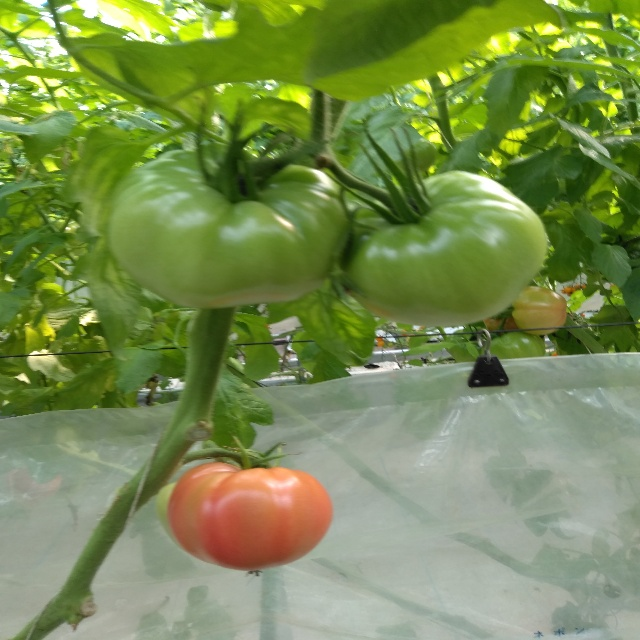b_green: (109, 141, 360, 309), (336, 170, 548, 326), (487, 332, 545, 360)
b_half_ripened: (168, 463, 332, 571), (511, 286, 567, 335)
